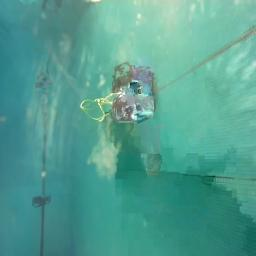Full: (32, 195, 50, 206)
front: (112, 88, 156, 124)
